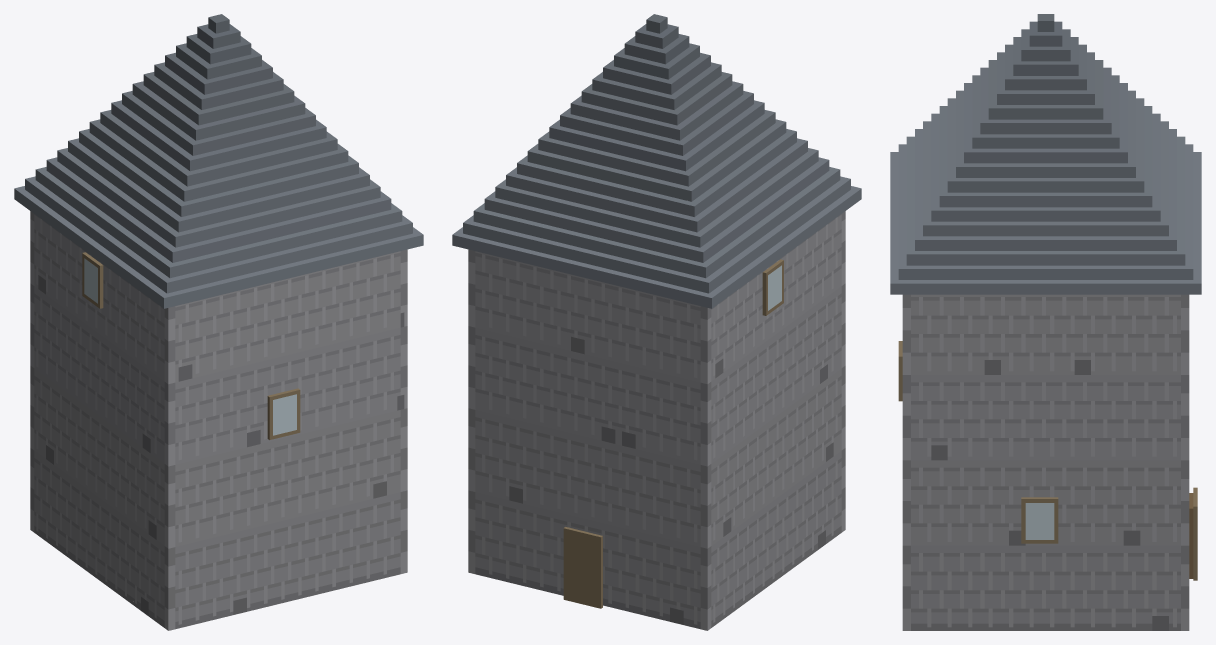
Rendered from torre_mago_03.glb.
3 renders of one model, left to right at view 1: azimuth 30°, elevation 25°; view 2: azimuth 150°, elevation 25°; view 3: azimuth 270°, elevation 25°, orthographic. The views are drawn at different scales.
Parts seen in each view (by area): view 1: torre_mago_03; view 2: torre_mago_03; view 3: torre_mago_03.
Boxes of the visible parts, box(x1,y1,x2,y2) form: torre_mago_03: box(14, 14, 423, 630); torre_mago_03: box(452, 14, 861, 630); torre_mago_03: box(890, 14, 1201, 630).
Bounding box in the file's own units: 7.6 × 14.9 × 7.6.
